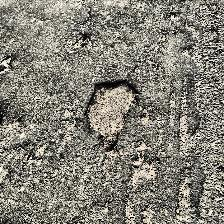pothole: (82, 78, 142, 149), (0, 56, 14, 74), (73, 35, 87, 49)
